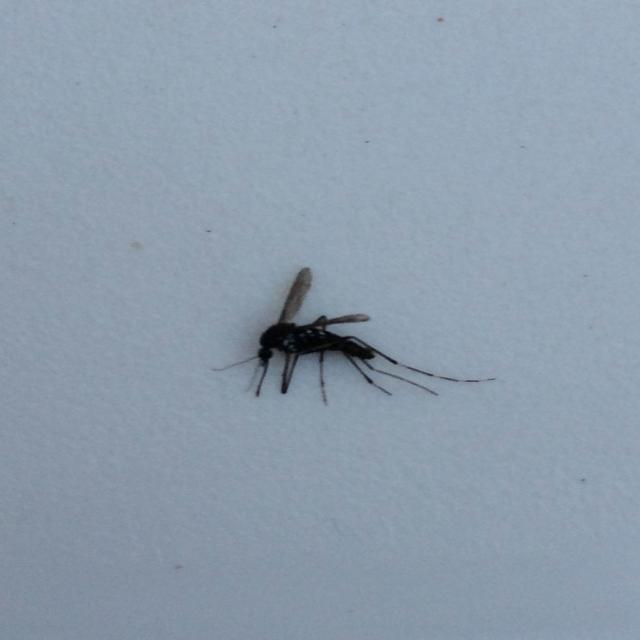albopictus: (206, 260, 488, 412)
